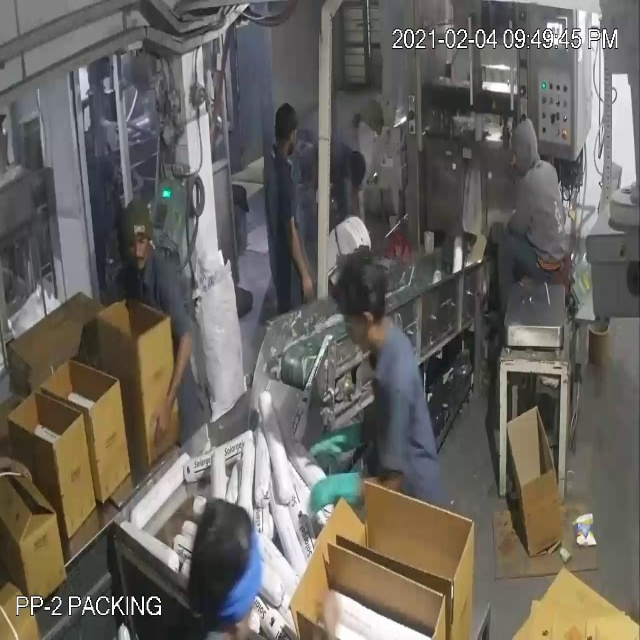Guantes: (304, 412, 370, 467), (308, 472, 366, 520)
Sin_guantes: (141, 333, 202, 451), (281, 213, 318, 316)
